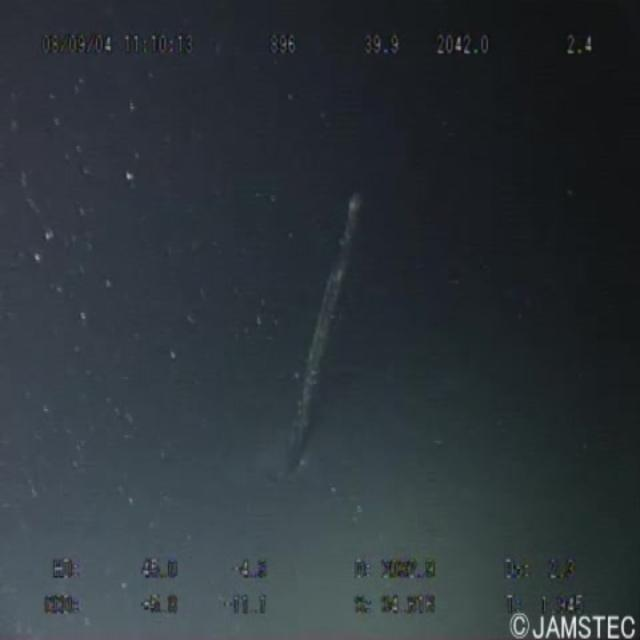Metal: (287, 171, 394, 493)
